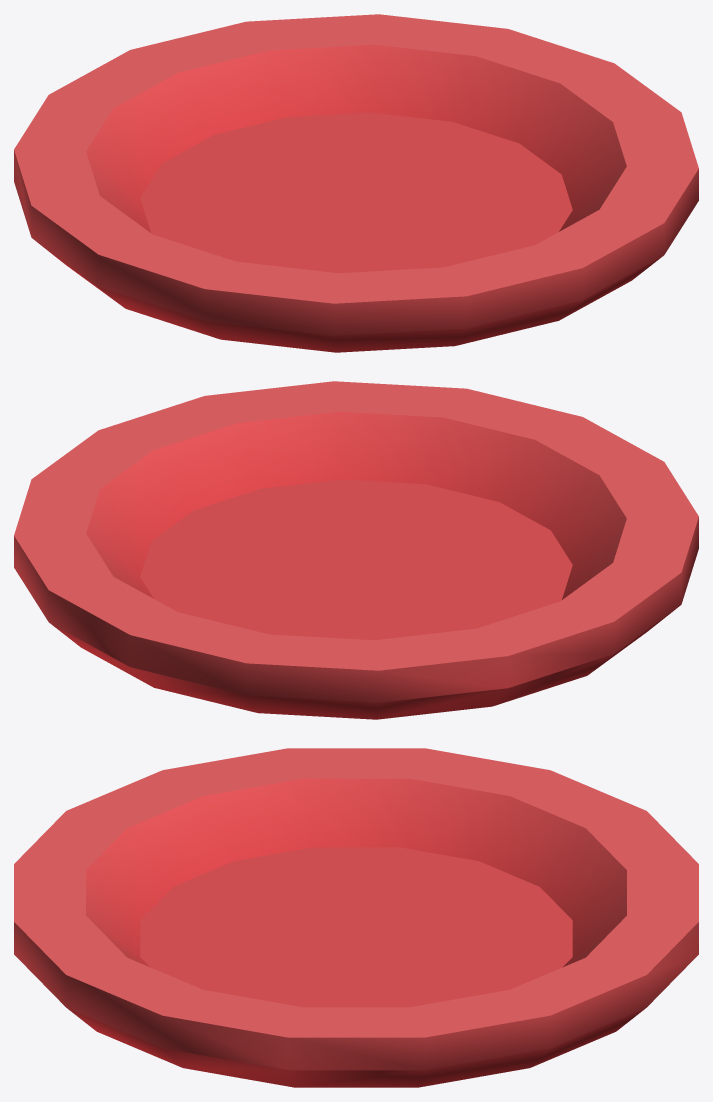
The model's file is plate_red.glb.
3 renders of one model, top to bottom at view 1: azimuth 30°, elevation 25°; view 2: azimuth 150°, elevation 25°; view 3: azimuth 270°, elevation 25°, orthographic.
Visible parts, largest first — view 1: plate_red; view 2: plate_red; view 3: plate_red.
Part boxes in pixels (bbox=[...]): plate_red: bbox=[14, 14, 698, 352]; plate_red: bbox=[14, 381, 698, 719]; plate_red: bbox=[14, 748, 698, 1087].
Size of the model in its own units: 0.95 by 0.1 by 0.95.
1 material, 1 textured.
